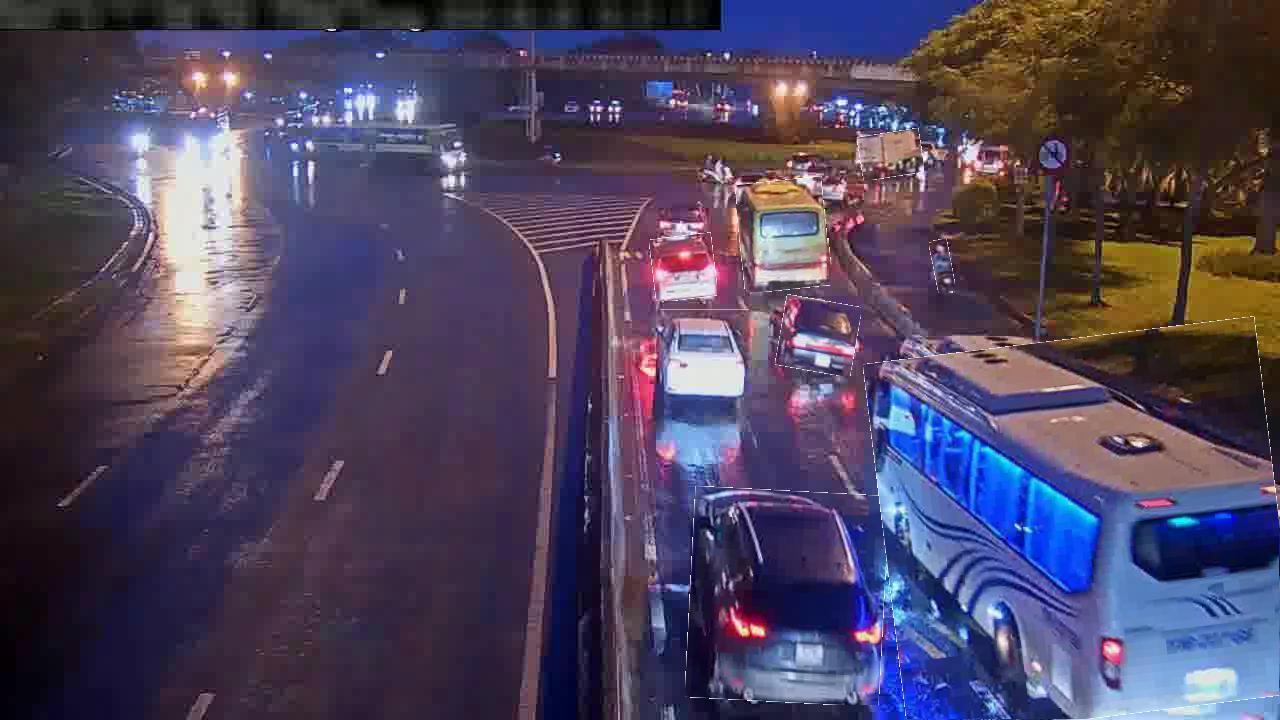14: (874, 327, 1279, 719), (738, 178, 830, 291)
8: (858, 131, 924, 179)
container: (688, 489, 887, 704), (660, 309, 750, 406), (778, 297, 860, 374), (651, 234, 717, 301)
motorbike: (932, 240, 954, 294)
